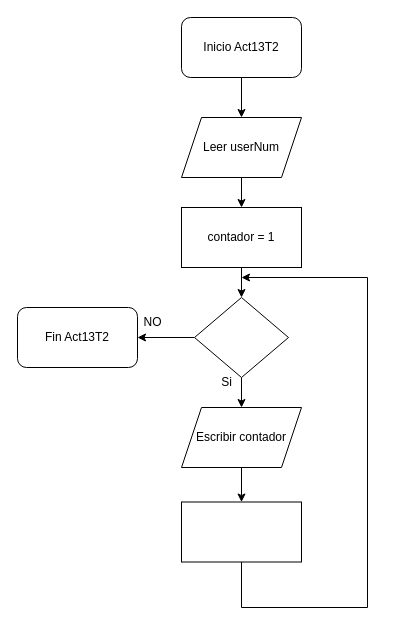
This 393x633 diagram has some shape labels left out. Each missing label, with the box of its shape:
contador <= num?: (194, 296, 288, 378)
contador++: (180, 501, 302, 562)
